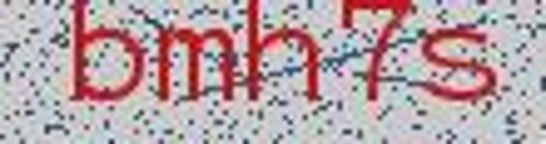7: (336, 1, 415, 109)
b: (60, 1, 146, 109)
h: (242, 1, 327, 109)
m: (152, 21, 239, 108)
s: (420, 18, 506, 107)
